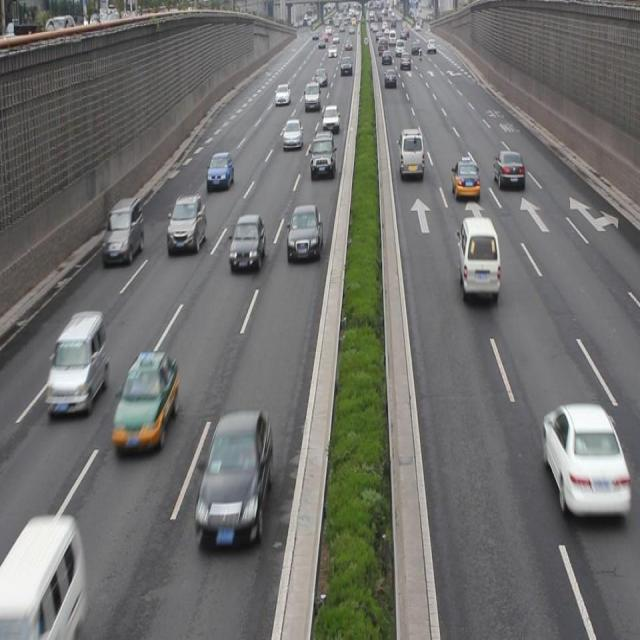car: (196, 410, 272, 550), (541, 404, 629, 517), (113, 349, 177, 452), (101, 196, 144, 264), (167, 193, 207, 255), (229, 213, 265, 273), (287, 204, 322, 263), (493, 148, 524, 192), (309, 129, 334, 179), (451, 158, 480, 200), (207, 150, 234, 193), (282, 118, 303, 150), (321, 104, 340, 134)
truck: (0, 516, 81, 640), (45, 310, 107, 414), (457, 217, 500, 297), (398, 128, 424, 178)
